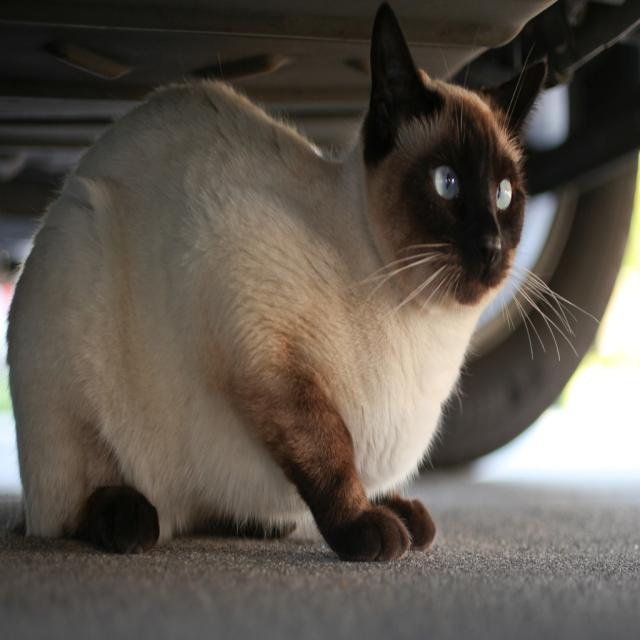Cat: (5, 0, 600, 562)
